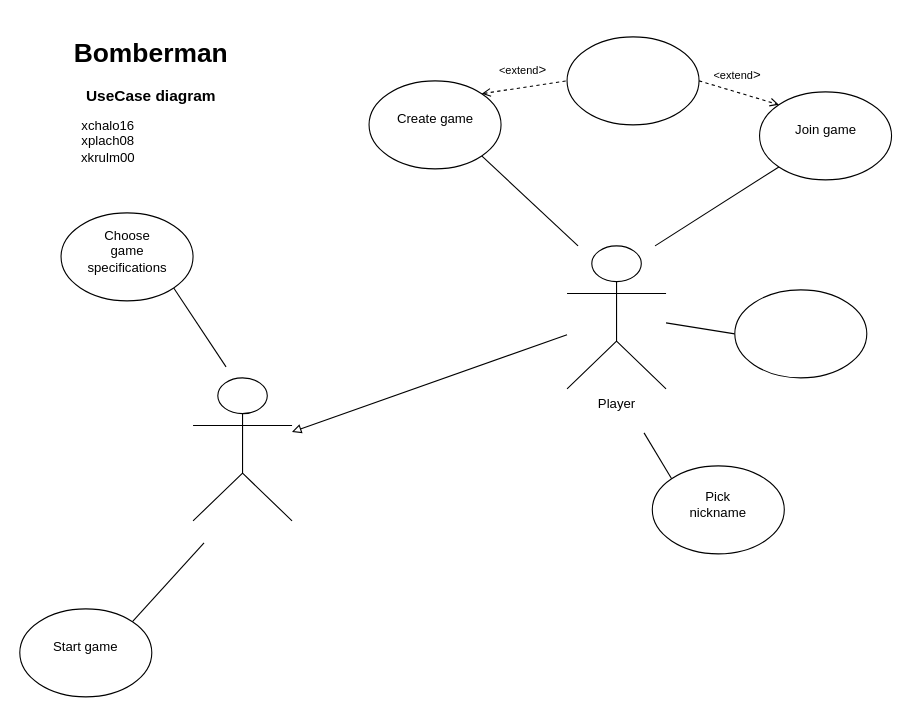
Some shapes in this 911 by 716 pixel diagram are drawn without their labels. Each missing label, with the centre of its shape:
Host: the point at 242,449
Invite another players to game: the point at 632,80
Search for games: the point at 800,333
